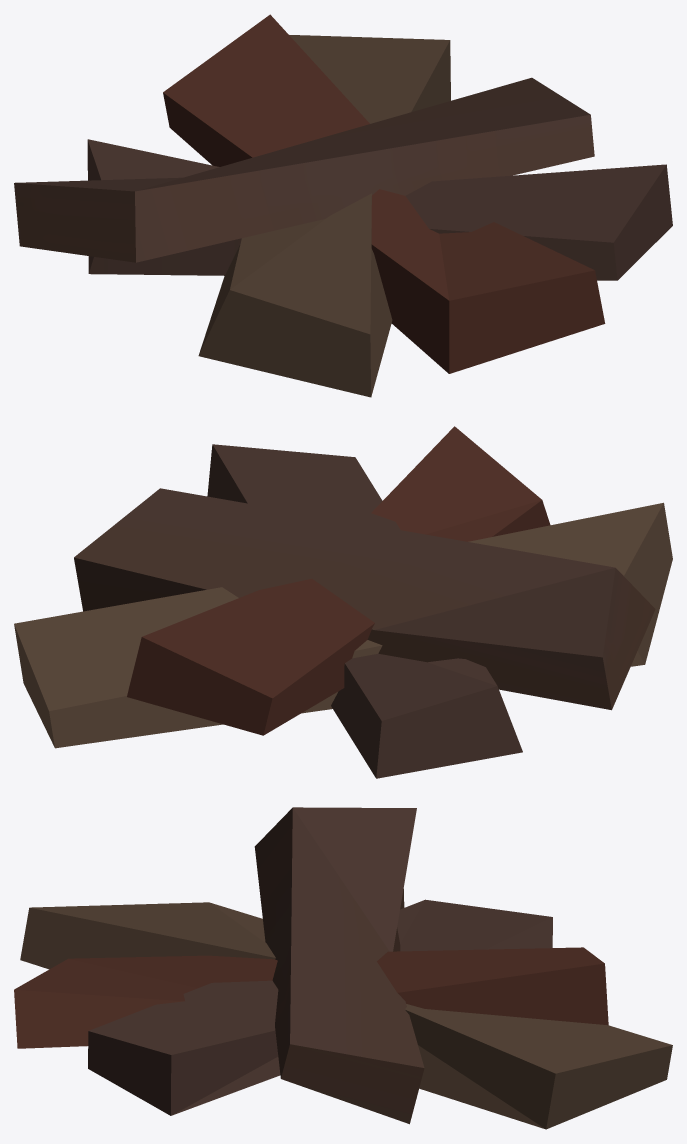
Rendered from SM_L_Falò.fbx.
3 renders of one model, top to bottom at view 1: azimuth 30°, elevation 25°; view 2: azimuth 150°, elevation 25°; view 3: azimuth 270°, elevation 25°, orthographic. The views are drawn at different scales.
Parts seen in each view (by area): view 1: SM_L_Falo; view 2: SM_L_Falo; view 3: SM_L_Falo.
Boxes of the visible parts, left/top/right/bottom form: SM_L_Falo: left=14, top=14, right=672, bottom=397; SM_L_Falo: left=14, top=426, right=672, bottom=778; SM_L_Falo: left=14, top=807, right=672, bottom=1129.
Size of the model in its own units: 52.13 by 13.09 by 60.63.
